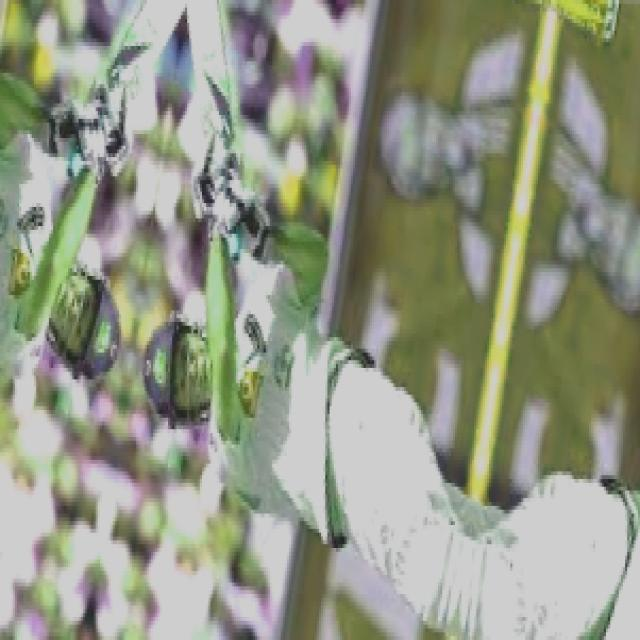toe: (185, 0, 222, 22)
